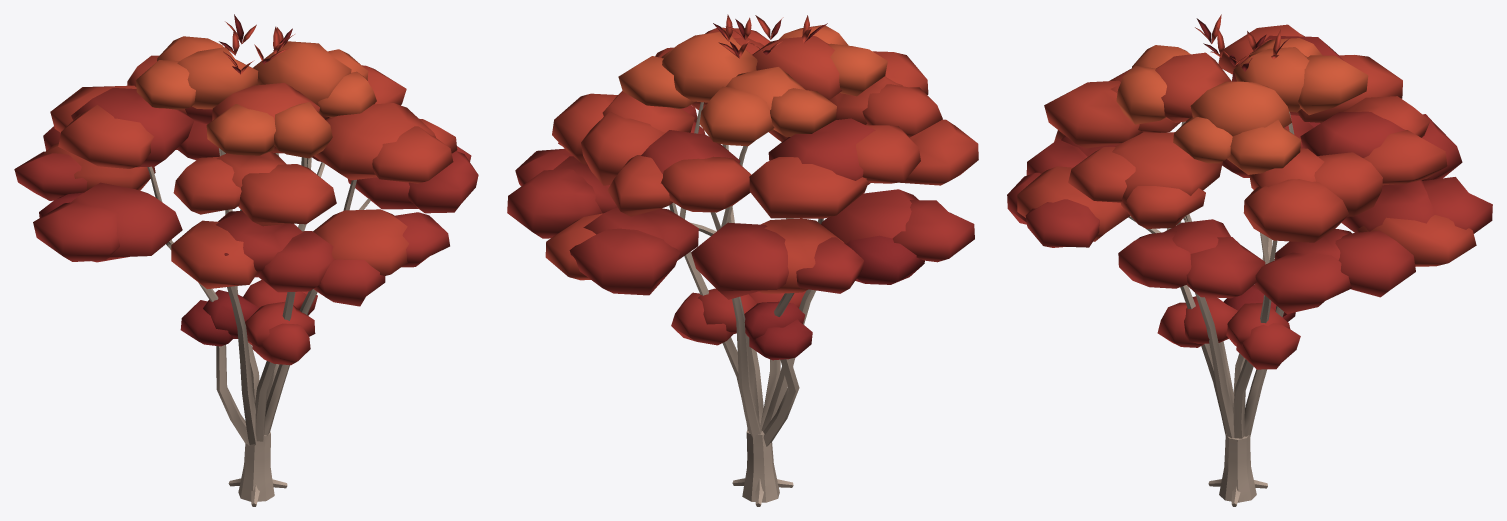
File: japaneseMaple.glb
The picture shows the model from 3 angles, left to right: view 1: azimuth 30°, elevation 25°; view 2: azimuth 150°, elevation 25°; view 3: azimuth 270°, elevation 25°; orthographic projection. The views are drawn at different scales.
Parts seen in each view (by area): view 1: japaneseMaple, sprigs; view 2: japaneseMaple, sprigs; view 3: japaneseMaple, sprigs.
Part boxes in pixels (<box>): japaneseMaple: <box>14,36,478,506</box>; sprigs: <box>219,14,294,74</box>; japaneseMaple: <box>507,25,978,506</box>; sprigs: <box>713,14,827,58</box>; japaneseMaple: <box>1007,24,1492,506</box>; sprigs: <box>1195,14,1290,71</box>.
Bounding box in the file's own units: 3.75 × 4.1 × 3.9.
